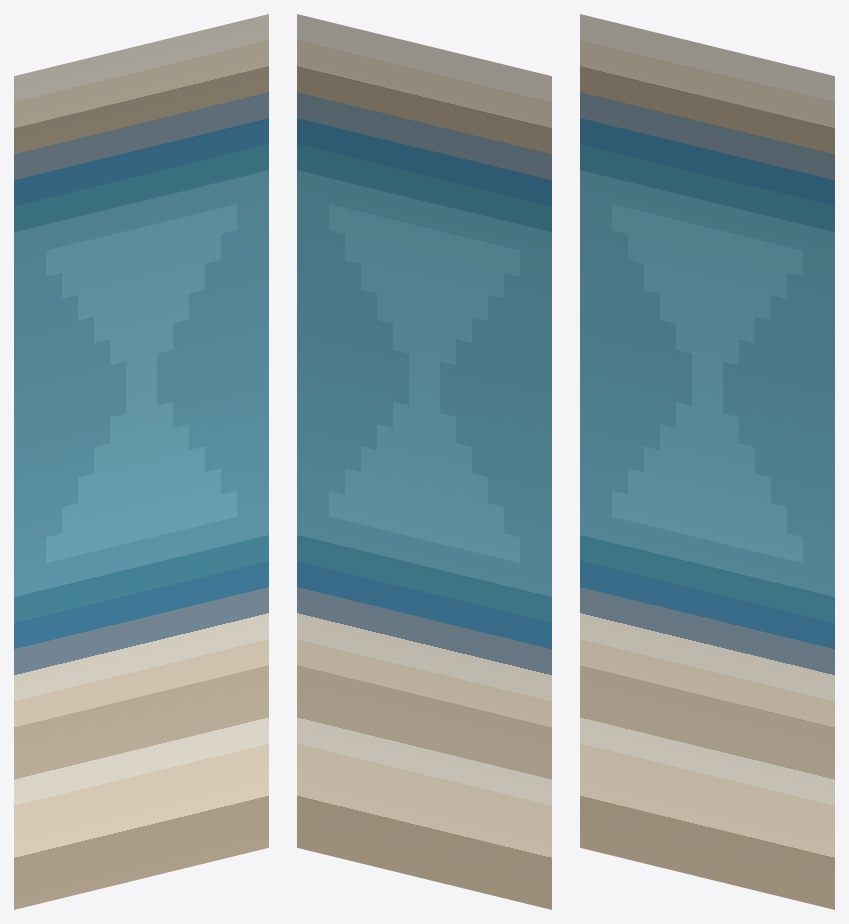
The picture shows the model from 3 angles, left to right: view 1: azimuth 30°, elevation 25°; view 2: azimuth 150°, elevation 25°; view 3: azimuth 330°, elevation 25°; orthographic projection.
Bounding box in the file's own units: 1 × 3.12 × 0.
Materials: 1 (1 with a texture image).
